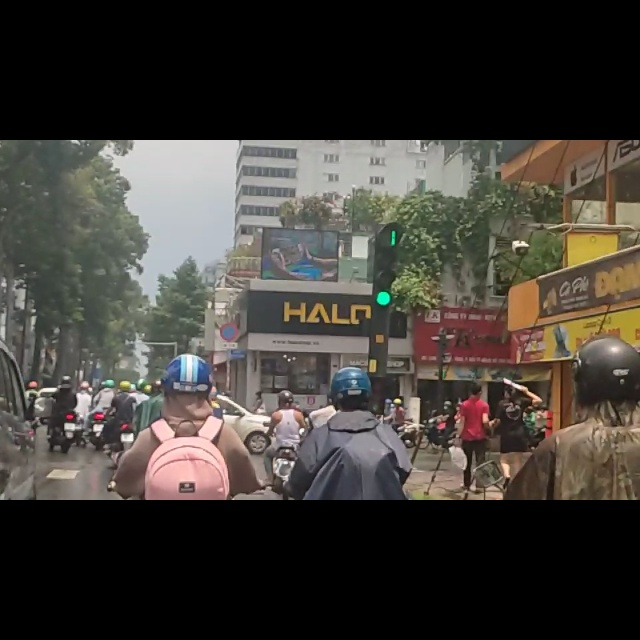bien_cam: (220, 324, 240, 360)
